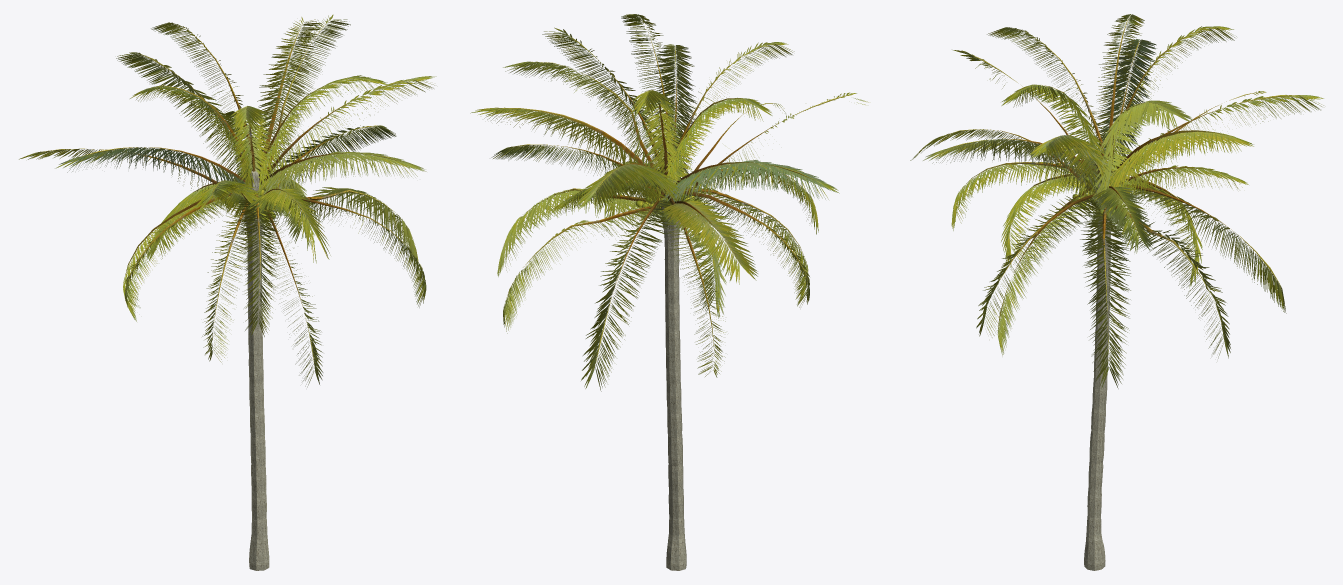
Rendered from sweethome3d-scopia-coconut-tree-361.glb.
The picture shows the model from 3 angles, left to right: view 1: azimuth 30°, elevation 25°; view 2: azimuth 150°, elevation 25°; view 3: azimuth 270°, elevation 25°; orthographic projection. The views are drawn at different scales.
Parts seen in each view (by area): view 1: Palm, Trunk; view 2: Palm, Trunk; view 3: Palm, Trunk.
Part boxes in pixels (<box>): Palm: <box>19,14,436,387</box>; Trunk: <box>244,169,269,570</box>; Palm: <box>470,14,868,391</box>; Trunk: <box>661,171,686,570</box>; Palm: <box>910,14,1323,388</box>; Trunk: <box>1084,160,1111,570</box>.
Bounding box in the file's own units: 777 × 1100 × 800.
Materials: 3 (3 with a texture image).
